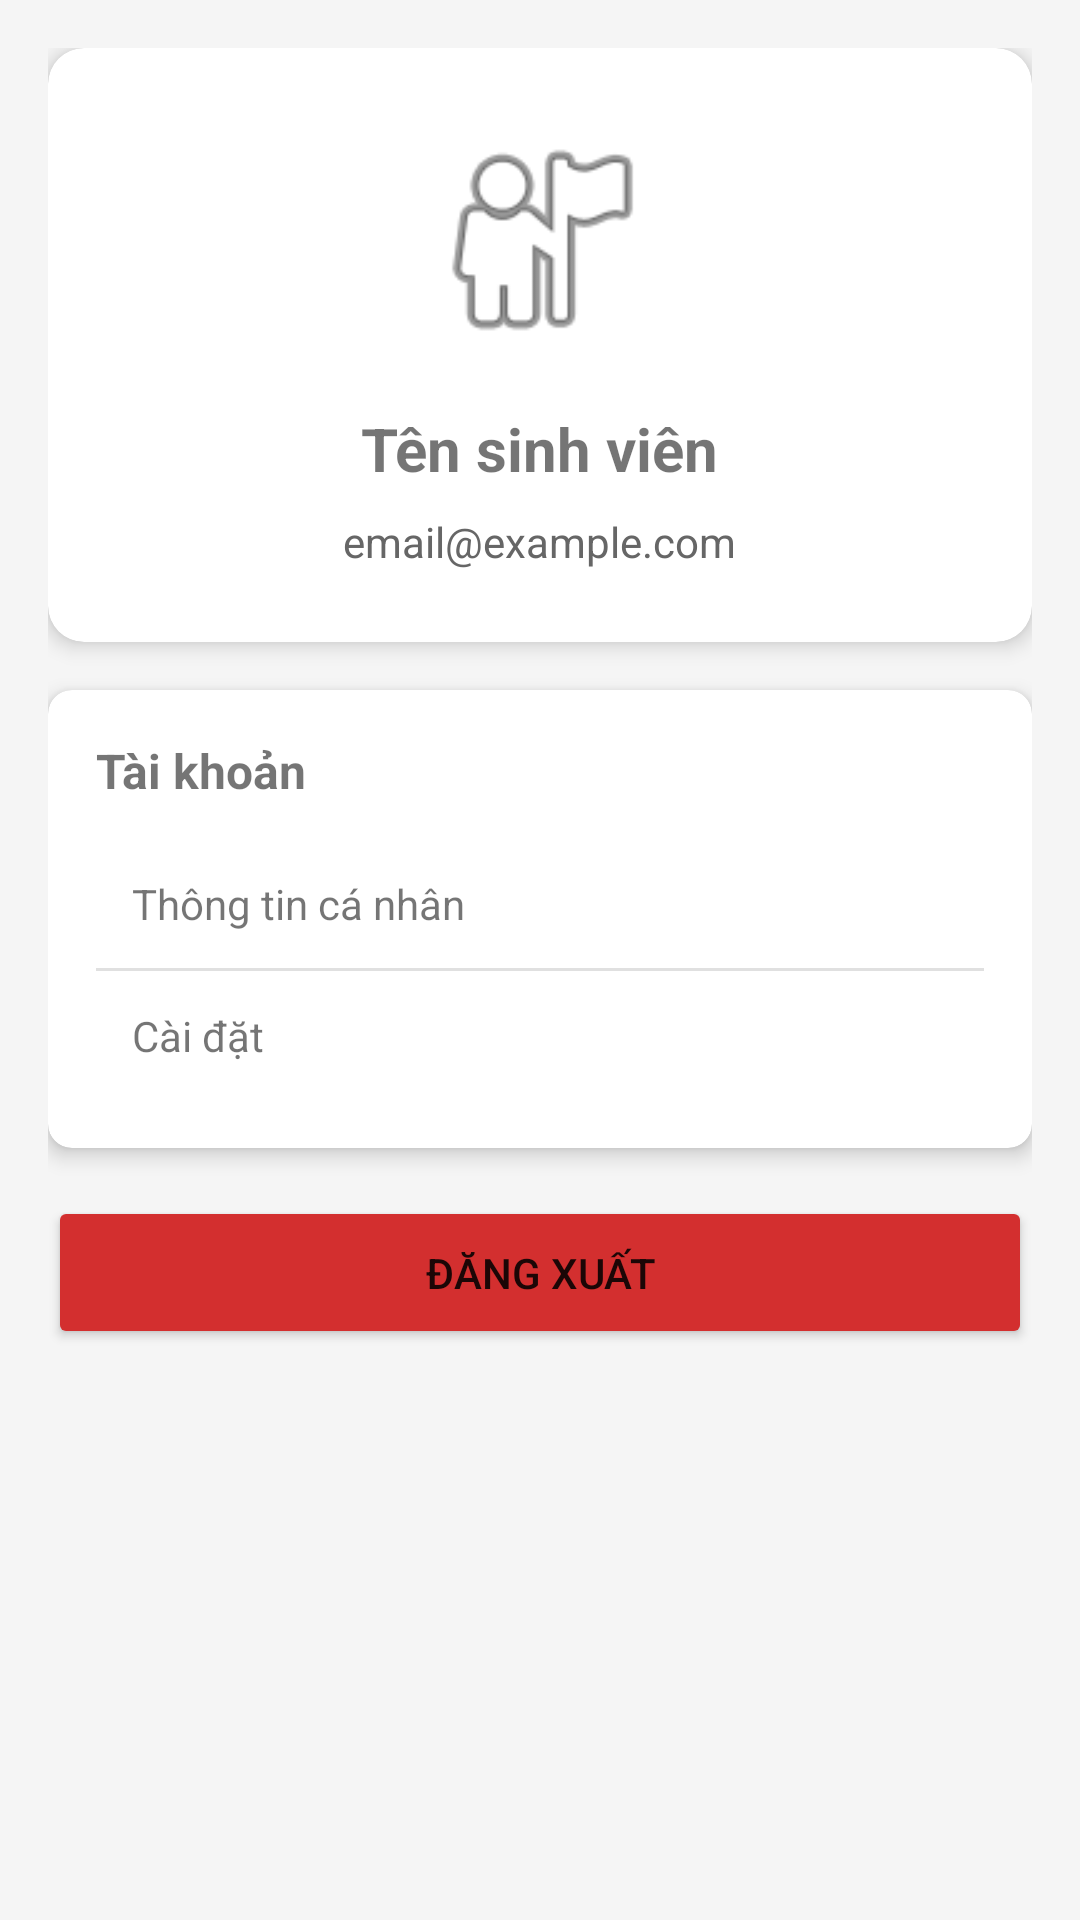

Named icons in this screenshot (1080 × 1920) and their centers, (x,y):
myplaces: (542,240)
